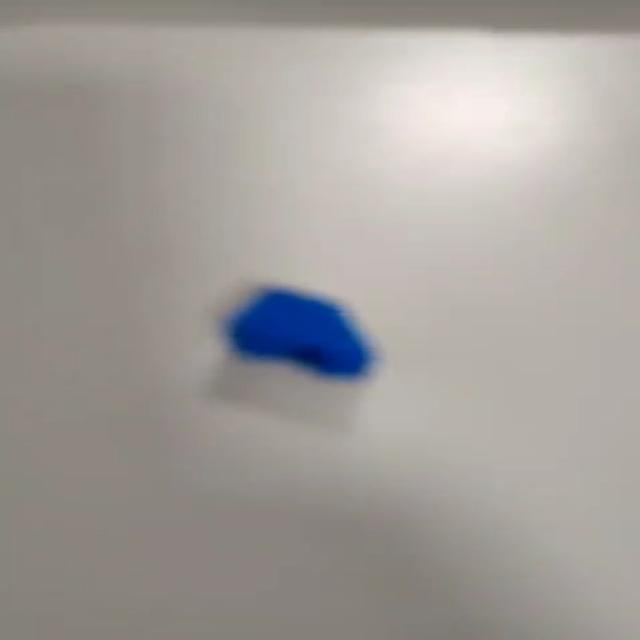X1x2x1: (212, 280, 386, 383)
